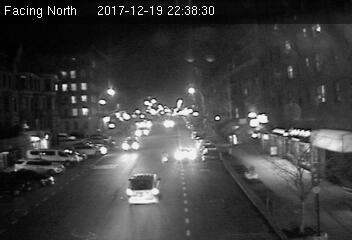car: (125, 171, 162, 207), (175, 144, 196, 162), (121, 135, 142, 152), (135, 126, 150, 137)
